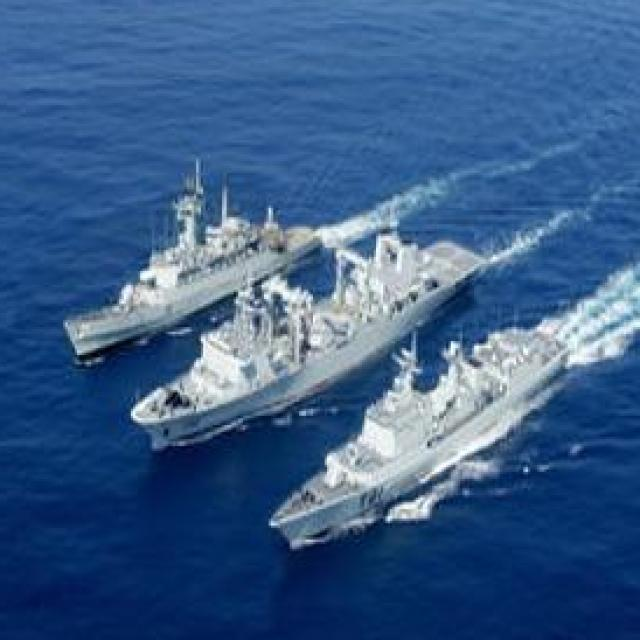navalvessels: (141, 232, 481, 446), (277, 315, 572, 548), (66, 166, 317, 359)
